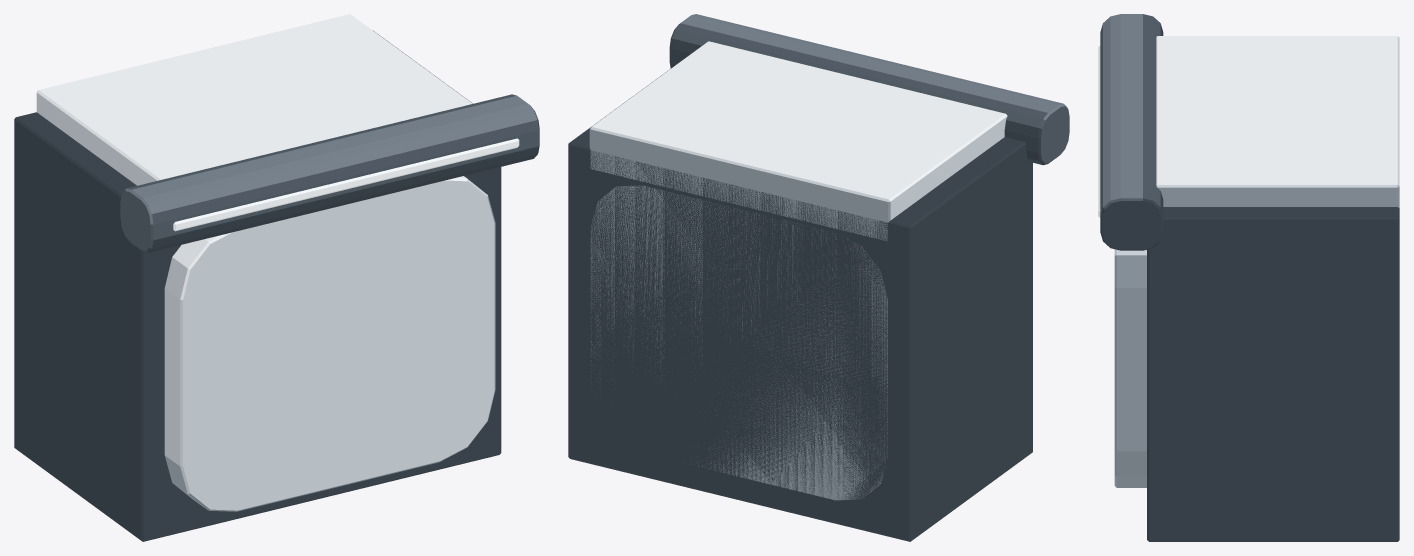
Rendered from Terrain_TopRun1LR.gltf.
The picture shows the model from 3 angles, left to right: view 1: azimuth 30°, elevation 25°; view 2: azimuth 150°, elevation 25°; view 3: azimuth 270°, elevation 25°; orthographic projection. The views are drawn at different scales.
Parts seen in each view (by area): view 1: Terrain_TopRun1LR_baked; view 2: Terrain_TopRun1LR_baked; view 3: Terrain_TopRun1LR_baked.
Part boxes in pixels (x1,y1,x2,y2): Terrain_TopRun1LR_baked: (14,14,539,541); Terrain_TopRun1LR_baked: (568,14,1069,541); Terrain_TopRun1LR_baked: (1098,14,1399,541).
Size of the model in its own units: 1.08 by 0.9495 by 0.74.
